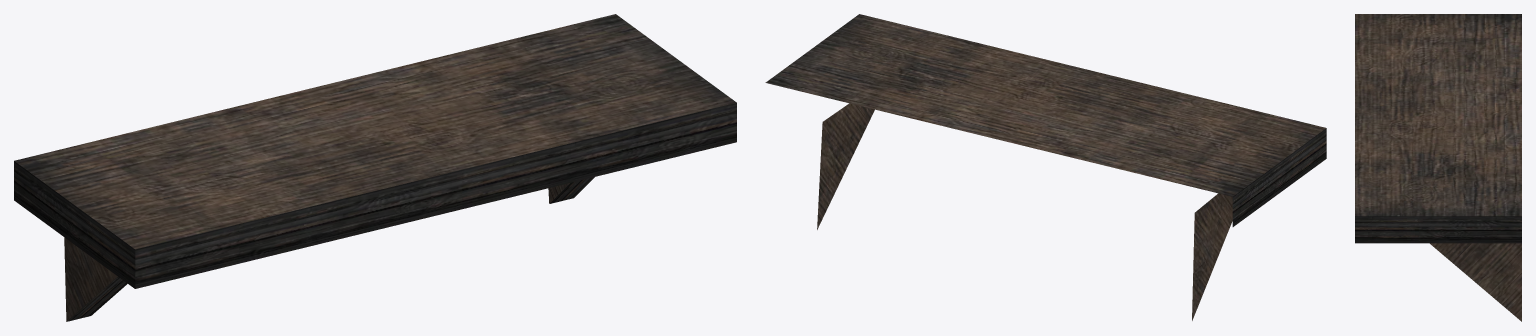
The model's file is GS_VOB_SHELF_BLACK_01_KOZA.glb.
3 renders of one model, left to right at view 1: azimuth 30°, elevation 25°; view 2: azimuth 150°, elevation 25°; view 3: azimuth 270°, elevation 25°, orthographic. The views are drawn at different scales.
Parts seen in each view (by area): view 1: GS_VOB_SHELF_BLACK_01_KOZA; view 2: GS_VOB_SHELF_BLACK_01_KOZA; view 3: GS_VOB_SHELF_BLACK_01_KOZA.
Part boxes in pixels (left/top/right/bottom): GS_VOB_SHELF_BLACK_01_KOZA: left=14, top=14, right=736, bottom=321; GS_VOB_SHELF_BLACK_01_KOZA: left=765, top=14, right=1326, bottom=320; GS_VOB_SHELF_BLACK_01_KOZA: left=1355, top=14, right=1521, bottom=321.
Bounding box in the file's own units: 1.91 × 0.5274 × 0.6657.
2 materials, 2 textured.
